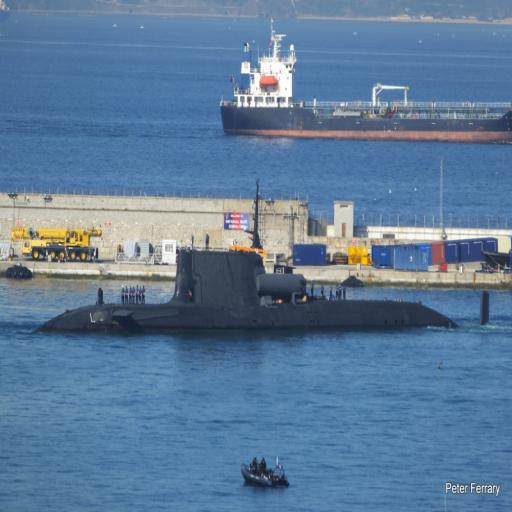submarine: (30, 253, 459, 329)
